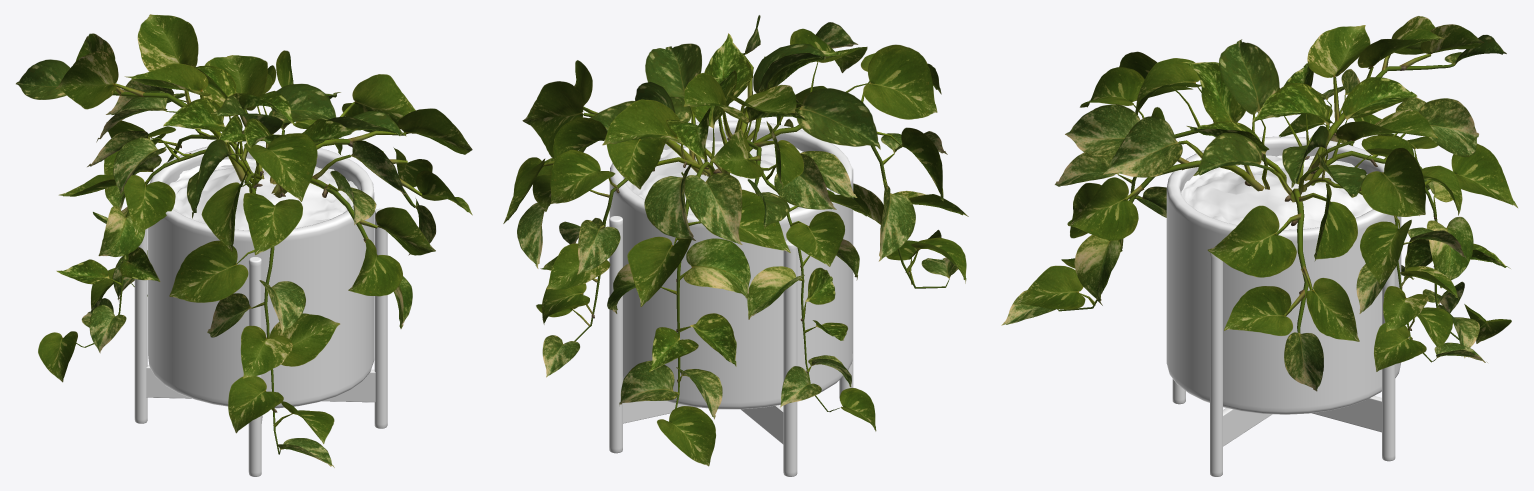
The model's file is free_pothos_potted_plant_-_money_plant.glb.
3 views of the same model, side by side, from view 1: azimuth 30°, elevation 25°; view 2: azimuth 150°, elevation 25°; view 3: azimuth 270°, elevation 25° (orthographic). The views are drawn at different scales.
Parts seen in each view (by area): view 1: POTHOS, POT_WOOD_LEGS; view 2: POTHOS, POT_WOOD_LEGS; view 3: POTHOS, POT_WOOD_LEGS.
Boxes of the visible parts, box(x1,y1,x2,y2) form: POTHOS: box(16, 14, 472, 467); POT_WOOD_LEGS: box(134, 141, 387, 476); POTHOS: box(503, 15, 968, 466); POT_WOOD_LEGS: box(609, 120, 853, 476); POTHOS: box(1001, 16, 1517, 391); POT_WOOD_LEGS: box(1166, 136, 1401, 476).
Bounding box in the file's own units: 0.8265 × 0.7916 × 0.9741.
2 materials, 1 textured.
